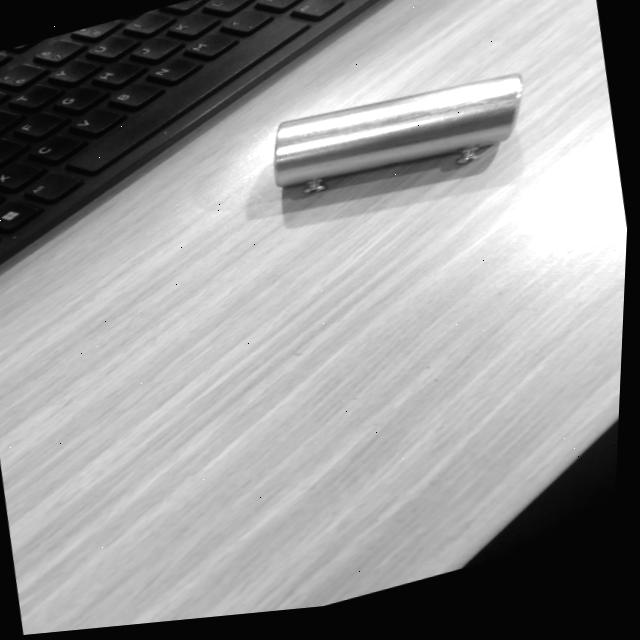Co_Lon: (264, 73, 534, 199)
